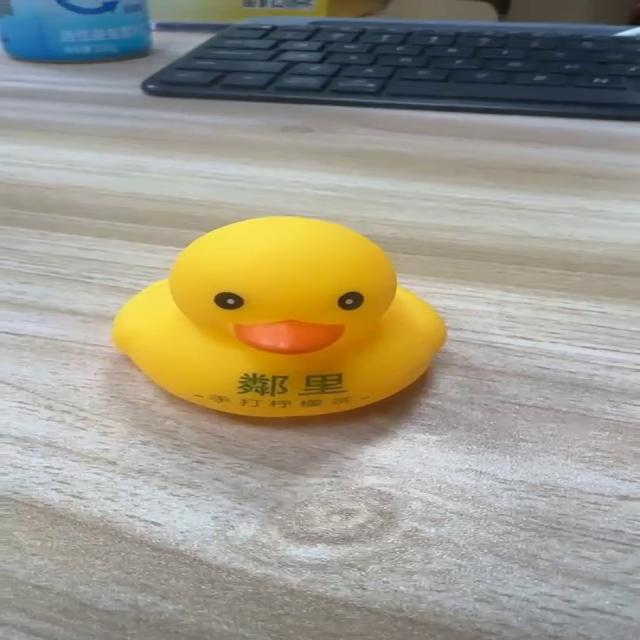yellow_duck: (109, 214, 448, 418)
